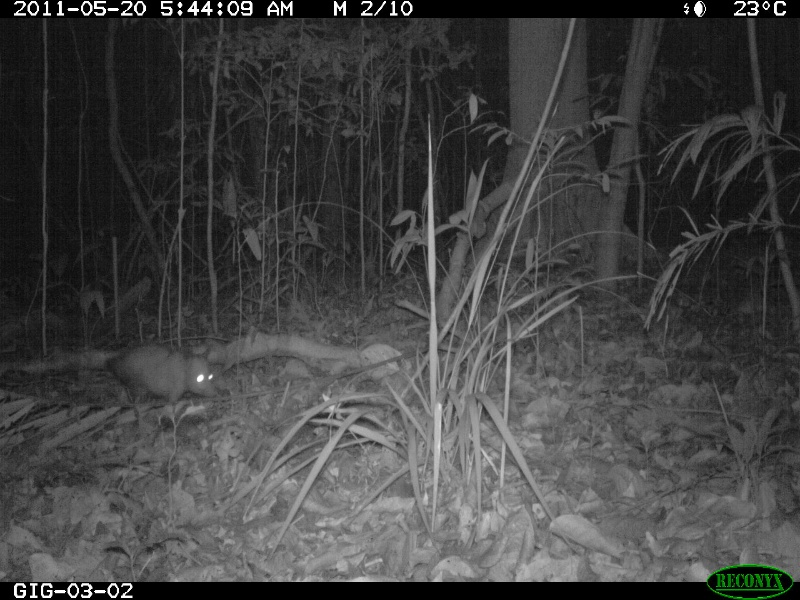opossum: (45, 340, 220, 402)
